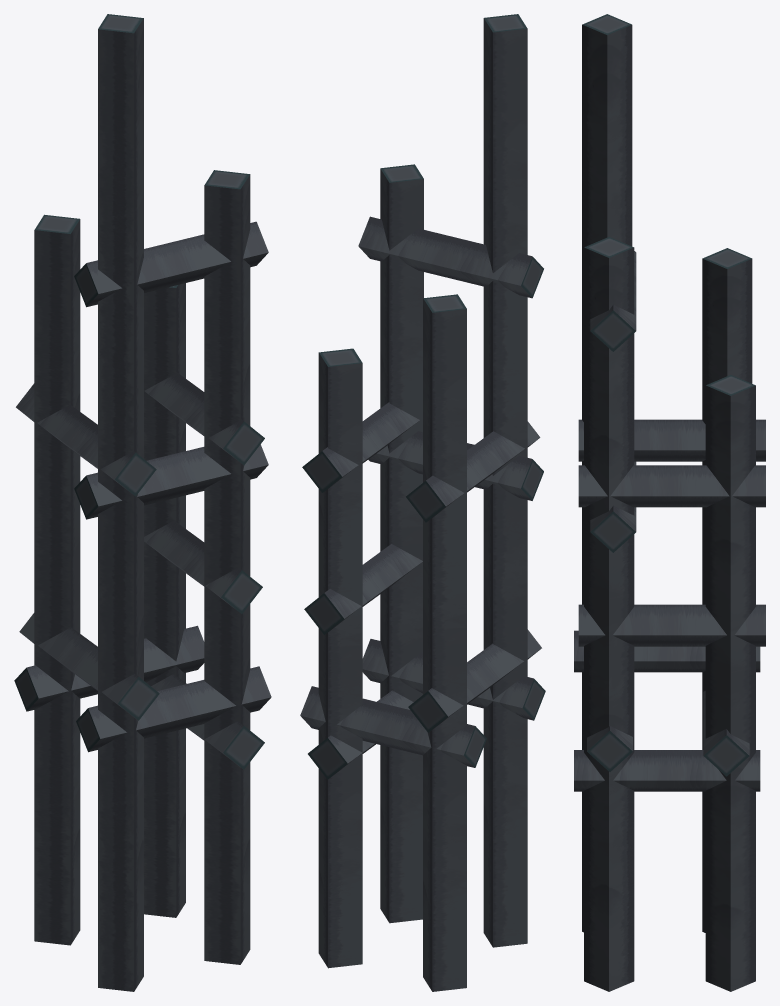
File: Sunken Tomb Scaffold Rebar.fbx
3 views of the same model, side by side, from view 1: azimuth 30°, elevation 25°; view 2: azimuth 150°, elevation 25°; view 3: azimuth 270°, elevation 25° (orthographic). The views are drawn at different scales.
Parts seen in each view (by area): view 1: Rebar; view 2: Rebar; view 3: Rebar.
Part boxes in pixels (box(x1,y1,x2,y2)): Rebar: box(14, 14, 271, 991); Rebar: box(300, 14, 545, 991); Rebar: box(574, 14, 765, 991).
Bounding box in the file's own units: 88.39 × 472 × 90.57.
